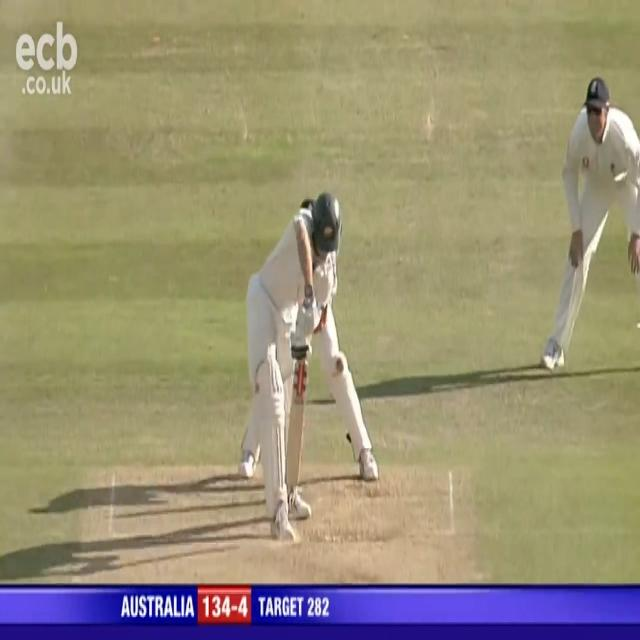ball: (335, 356, 345, 375)
